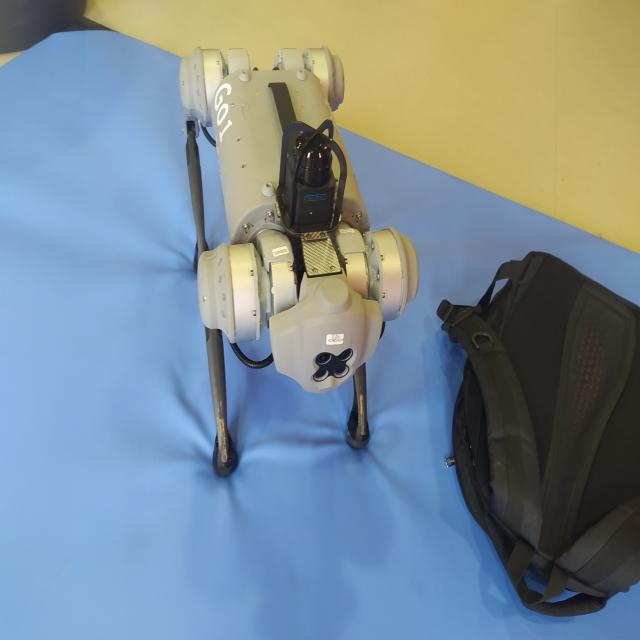unitree-go1-robot: (167, 18, 425, 494)
